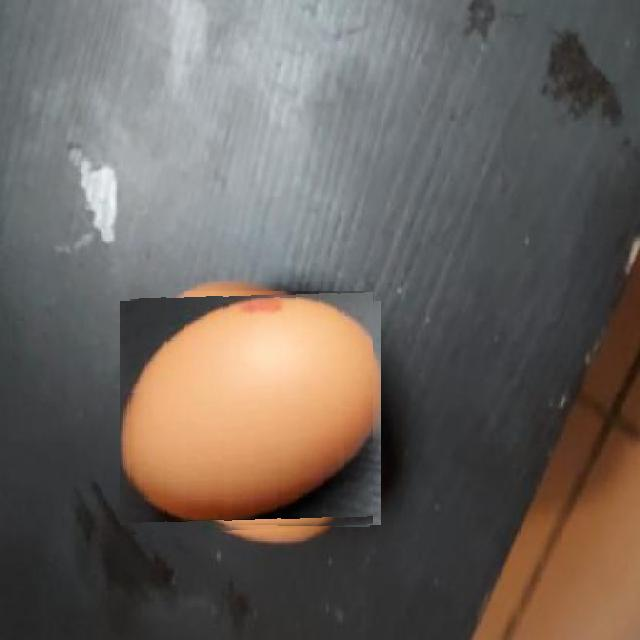biodegradable: (127, 291, 373, 535)
